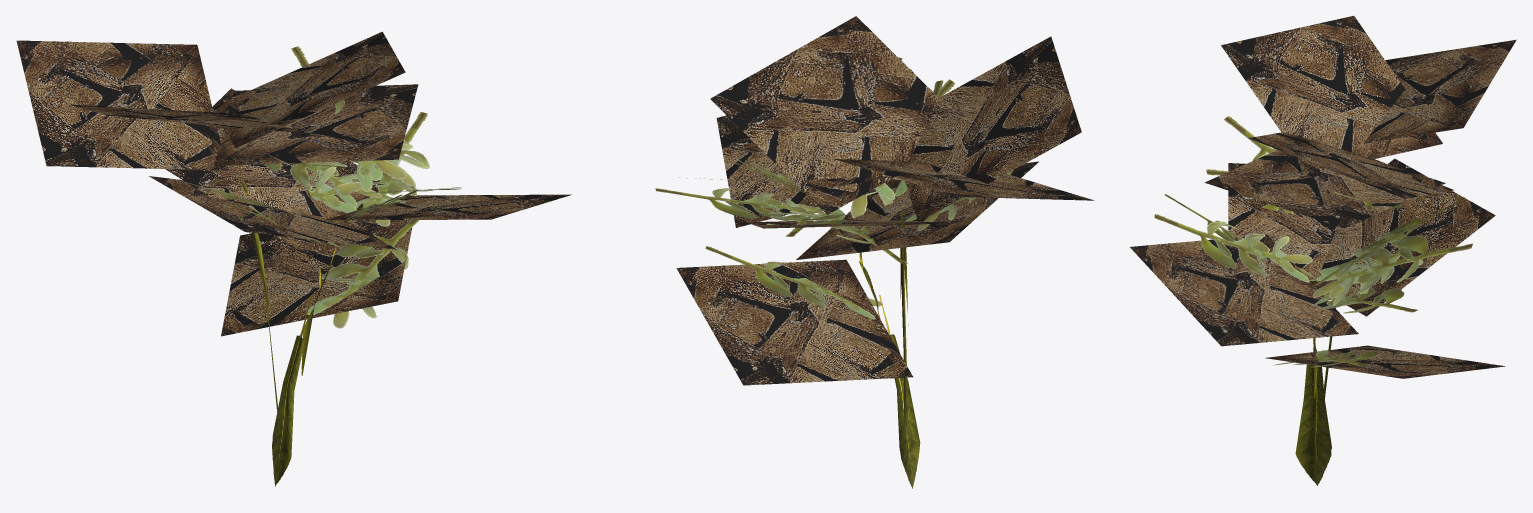
File: tropicaltest.obj
3 renders of one model, left to right at view 1: azimuth 30°, elevation 25°; view 2: azimuth 150°, elevation 25°; view 3: azimuth 270°, elevation 25°, orthographic. The views are drawn at different scales.
Visible parts, largest first — view 1: Plant1; view 2: Plant1; view 3: Plant1.
Part boxes in pixels (box(x1,y1,x2,y2)): Plant1: box(16, 31, 571, 486); Plant1: box(655, 16, 1094, 488); Plant1: box(1130, 15, 1516, 485).
Bounding box in the file's own units: 218 × 196 × 172.
